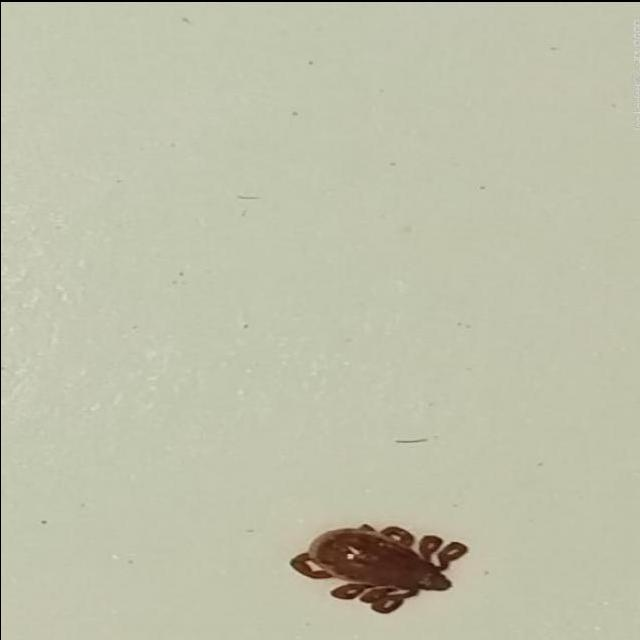Rhipicephalus Sanguineus-M: (291, 522, 470, 611)
